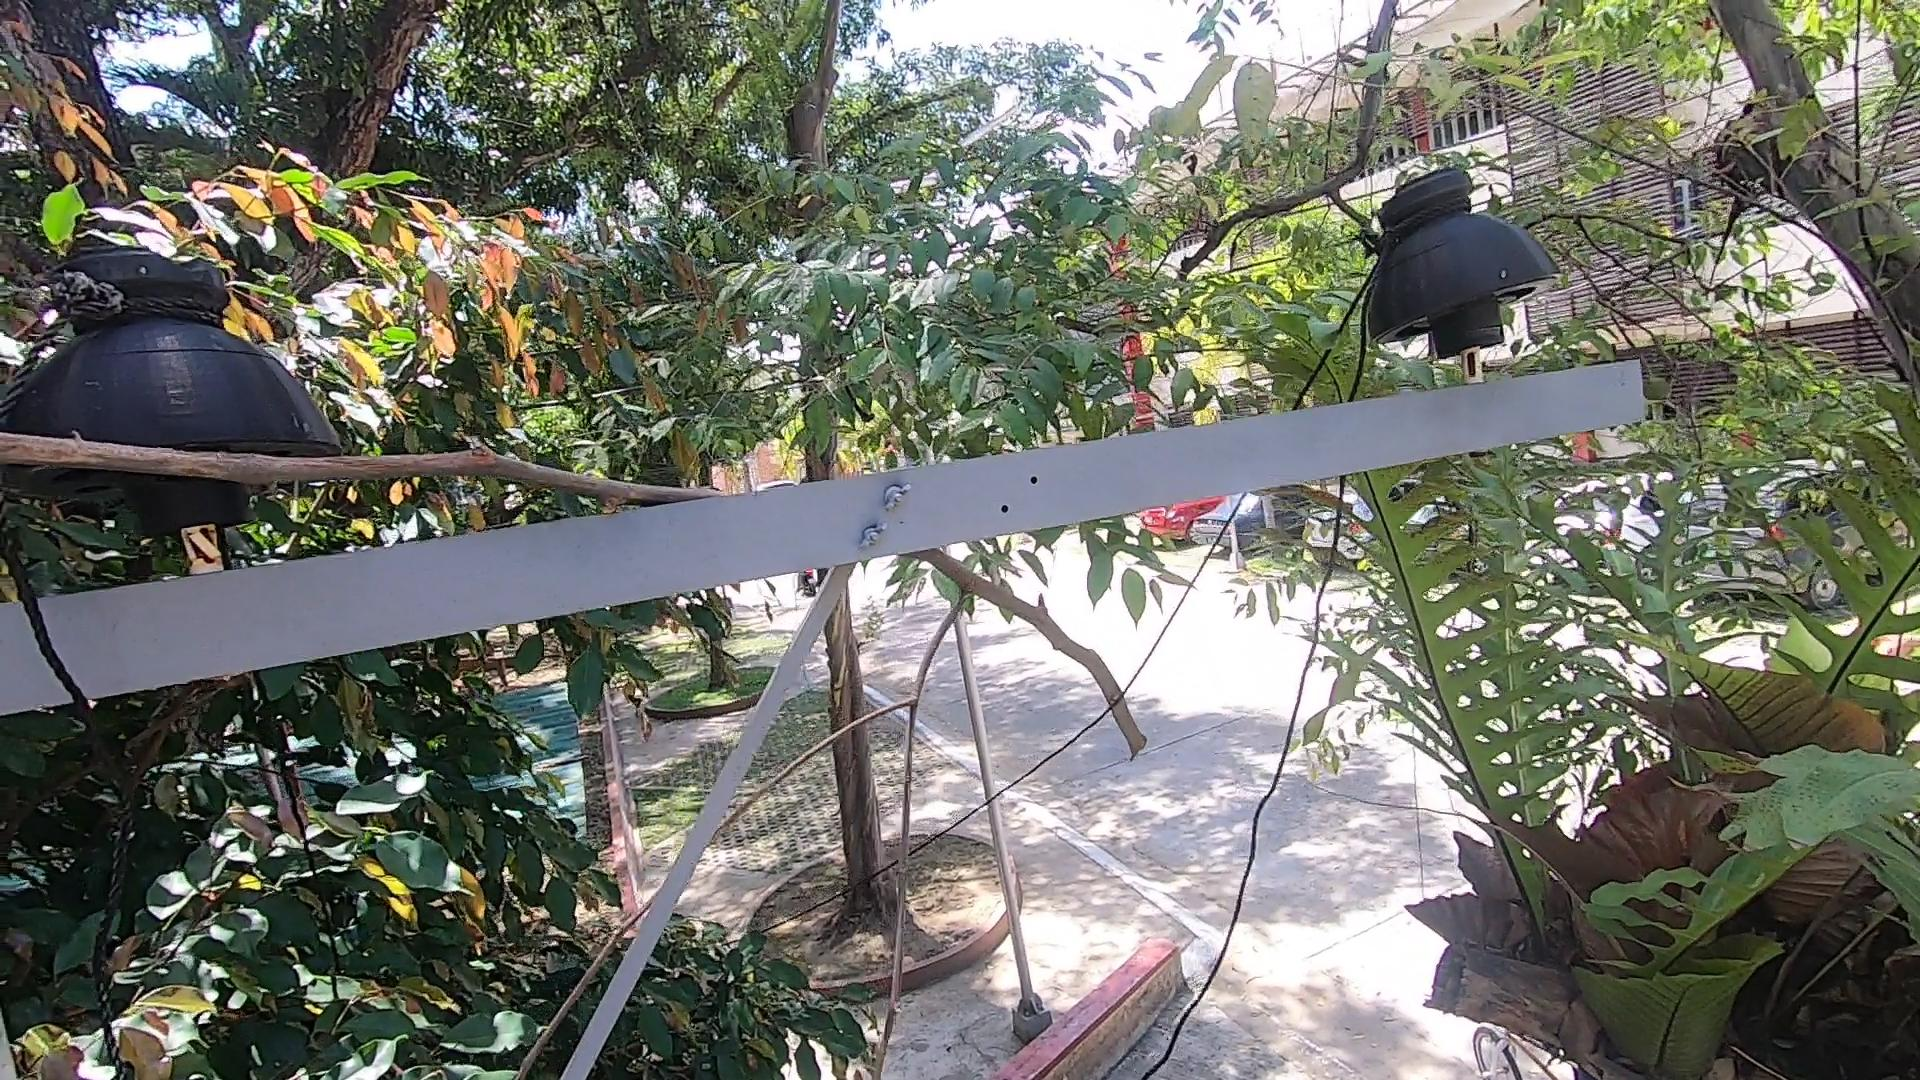tree branch: (518, 551, 1149, 1080), (1, 434, 736, 506)
